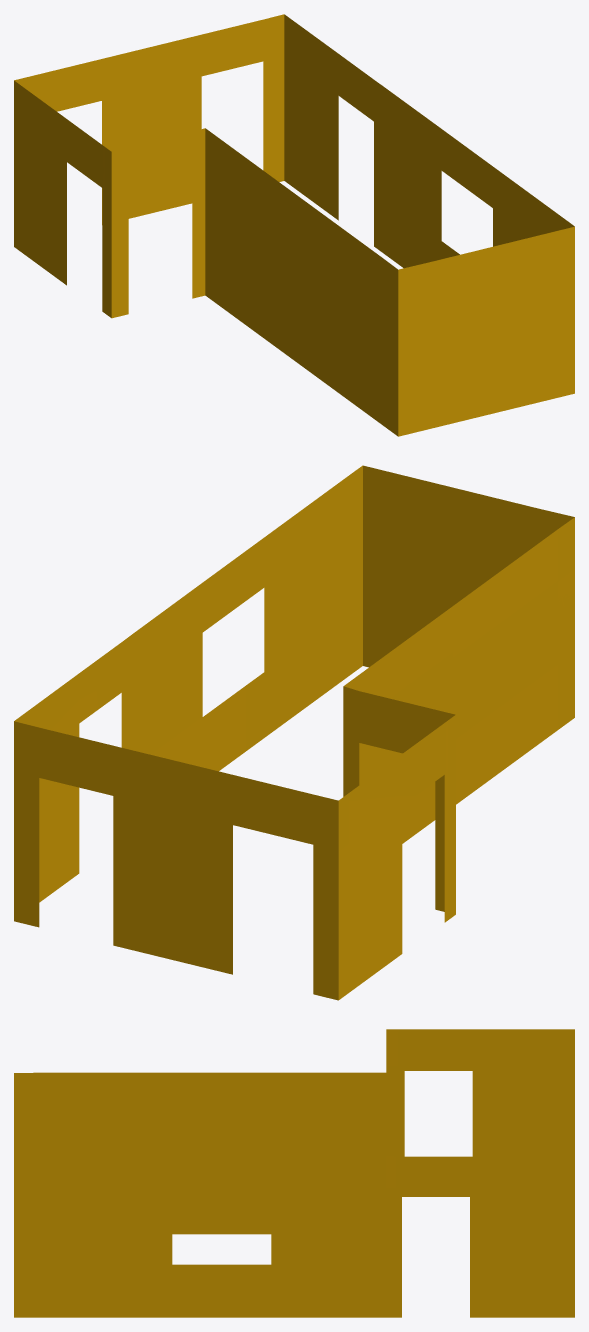
3 renders of one model, top to bottom at view 1: azimuth 30°, elevation 25°; view 2: azimuth 150°, elevation 25°; view 3: azimuth 270°, elevation 25°, orthographic. The views are drawn at different scales.
Visible parts, largest first — view 1: H07C_WP_04; view 2: H07C_WP_04; view 3: H07C_WP_04.
Part boxes in pixels (x1,y1,x2,y2): H07C_WP_04: (14,14,574,436); H07C_WP_04: (14,465,574,1000); H07C_WP_04: (14,1029,574,1317).
Size of the model in its own units: 508 by 301 by 946.
